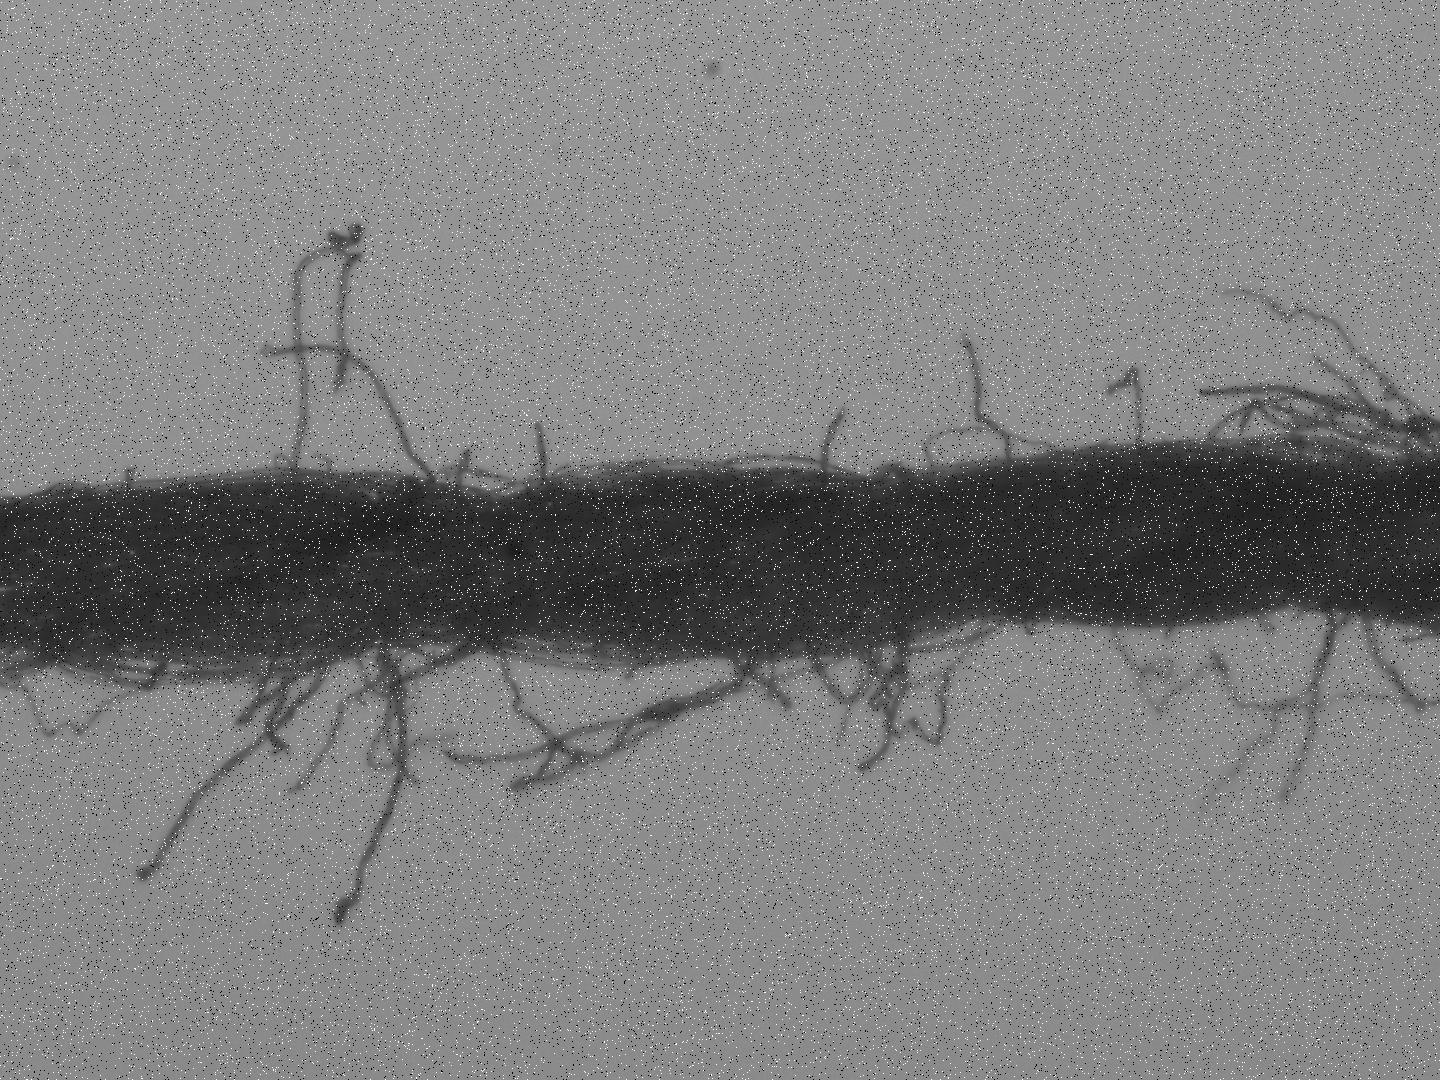loop_fiber: (58, 648, 324, 687), (471, 640, 671, 675), (923, 425, 1060, 472), (554, 458, 732, 491), (810, 638, 889, 707), (1242, 437, 1379, 466), (713, 455, 859, 481), (414, 472, 530, 495), (408, 641, 477, 665), (32, 478, 95, 500), (492, 479, 558, 497), (874, 457, 915, 484)
protruding_fiber: (136, 664, 333, 881), (334, 642, 409, 925), (1109, 361, 1145, 445), (821, 406, 846, 486), (535, 421, 550, 491), (129, 467, 138, 491)
